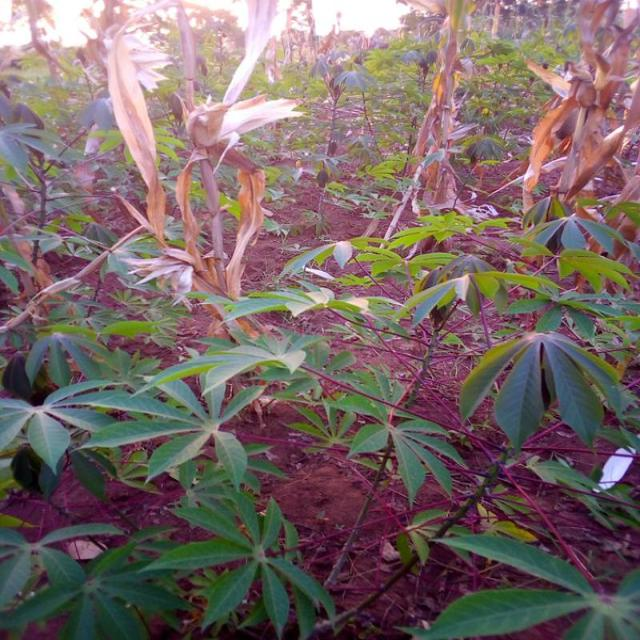cassava leaf: (458, 328, 624, 454)
